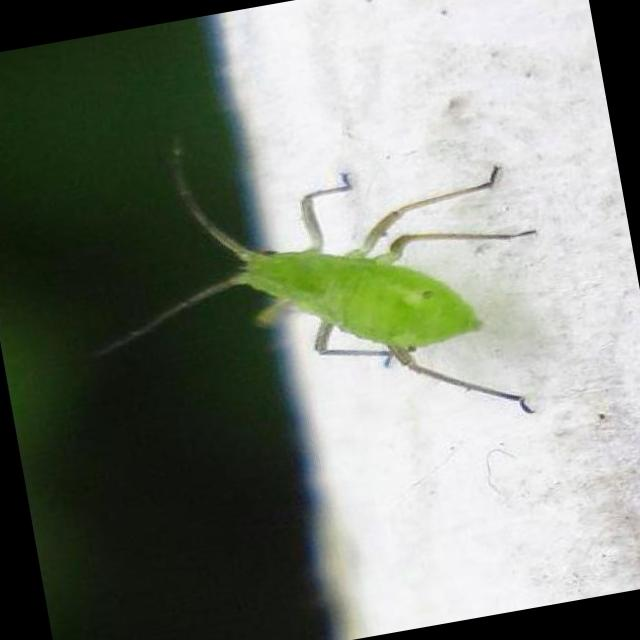aphid: (73, 44, 608, 503)
